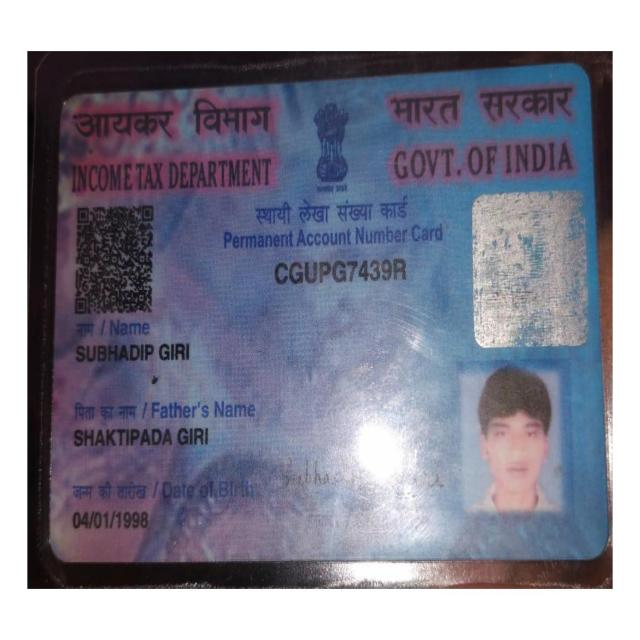pan_card: (65, 82, 591, 554)
